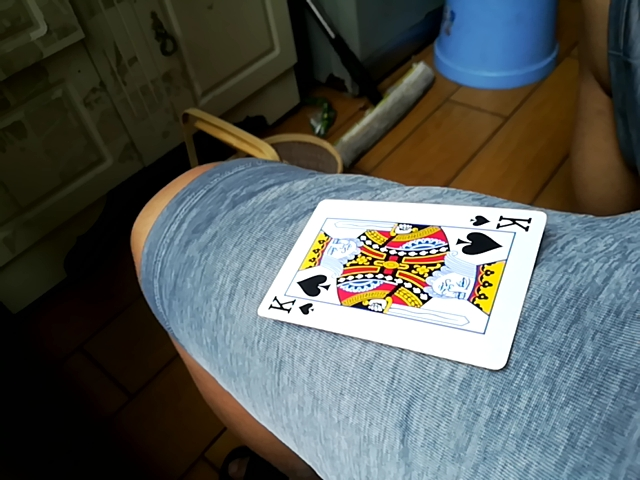ht k: (258, 193, 554, 373)
